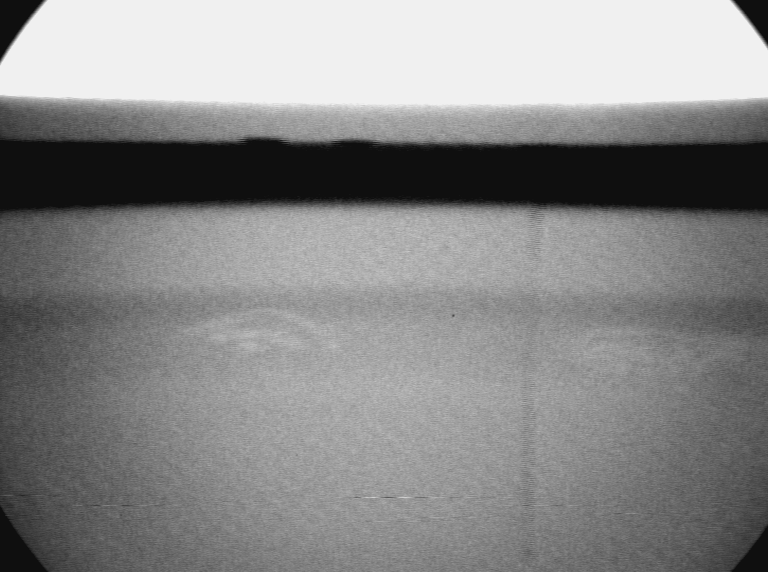defect: (574, 319, 766, 397)
